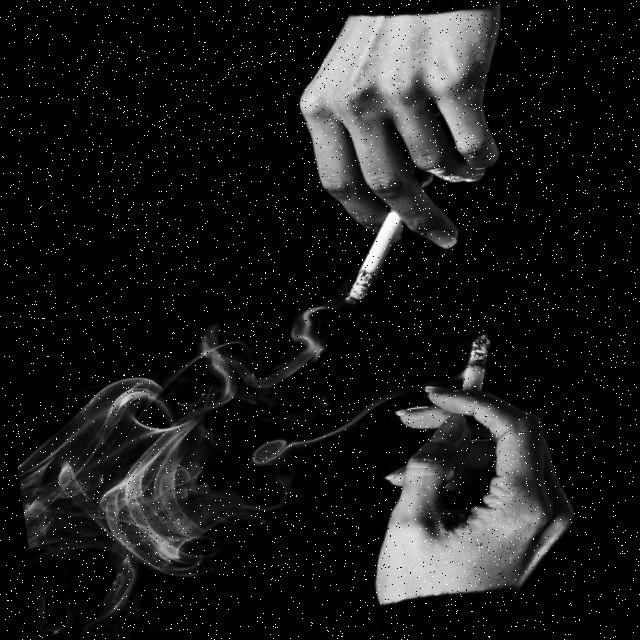cigarette: (332, 205, 418, 304)
